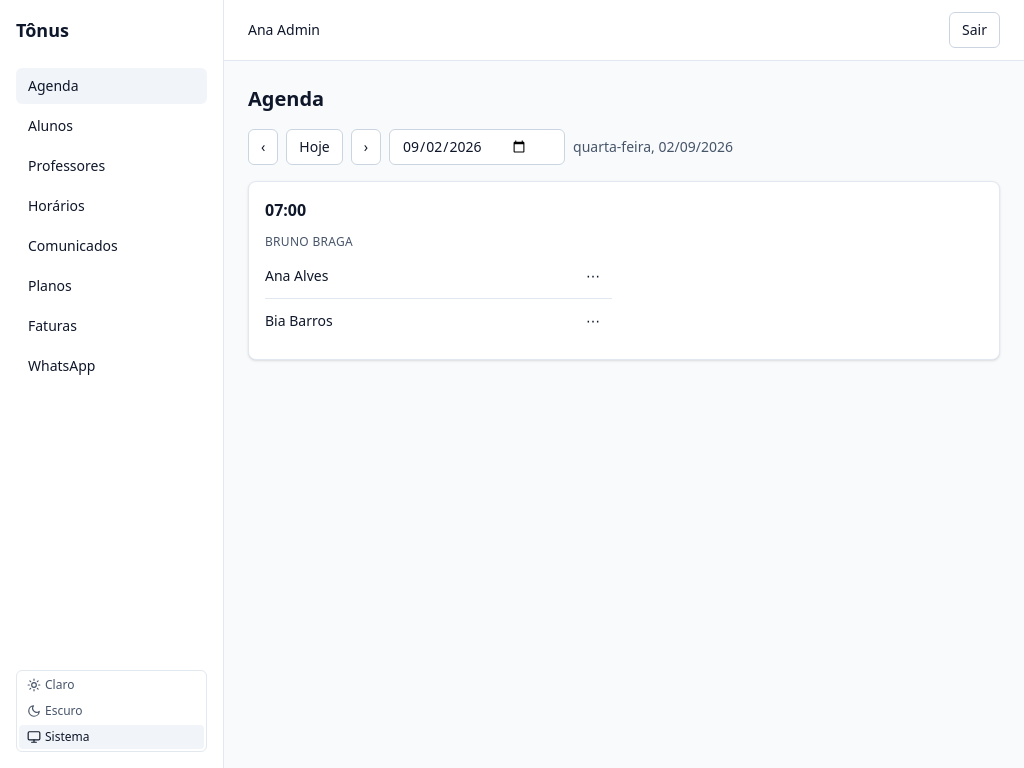
Test: cancelar aula › confirma avisando o efeito, envia a exceção e atualiza a lista
Click the button named "Ações de Ana Alves" at (593, 276), box x1=574 y1=258 x2=612 y2=294
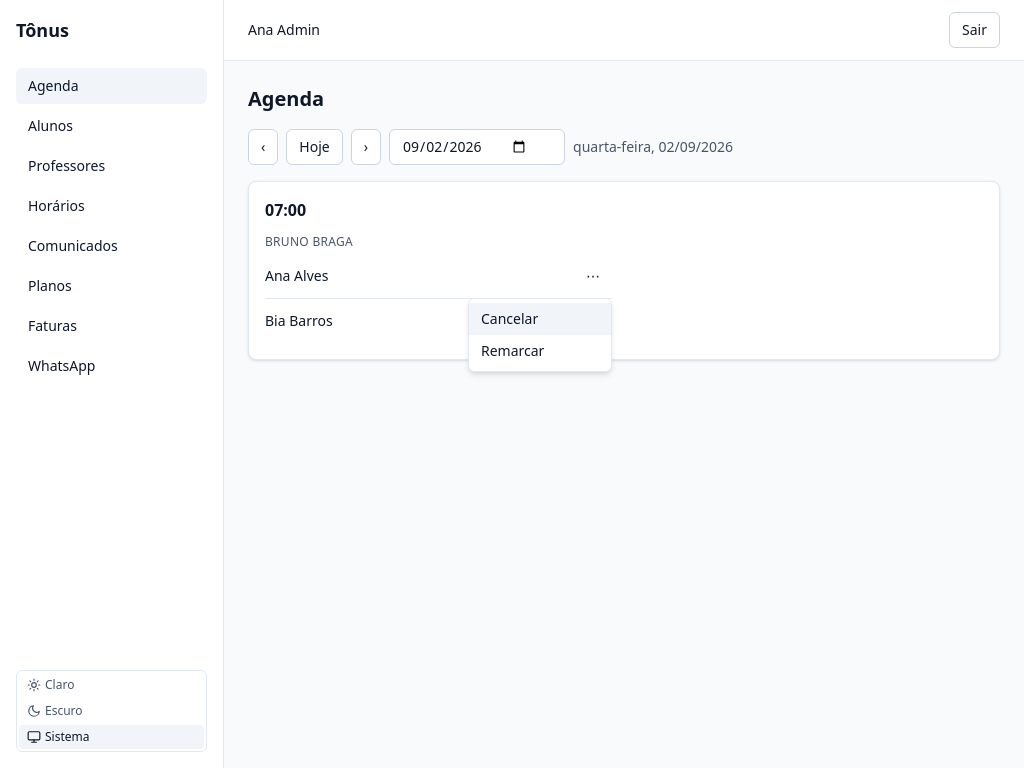
Click the menu item "Cancelar" at (540, 319), box x1=469 y1=303 x2=611 y2=335
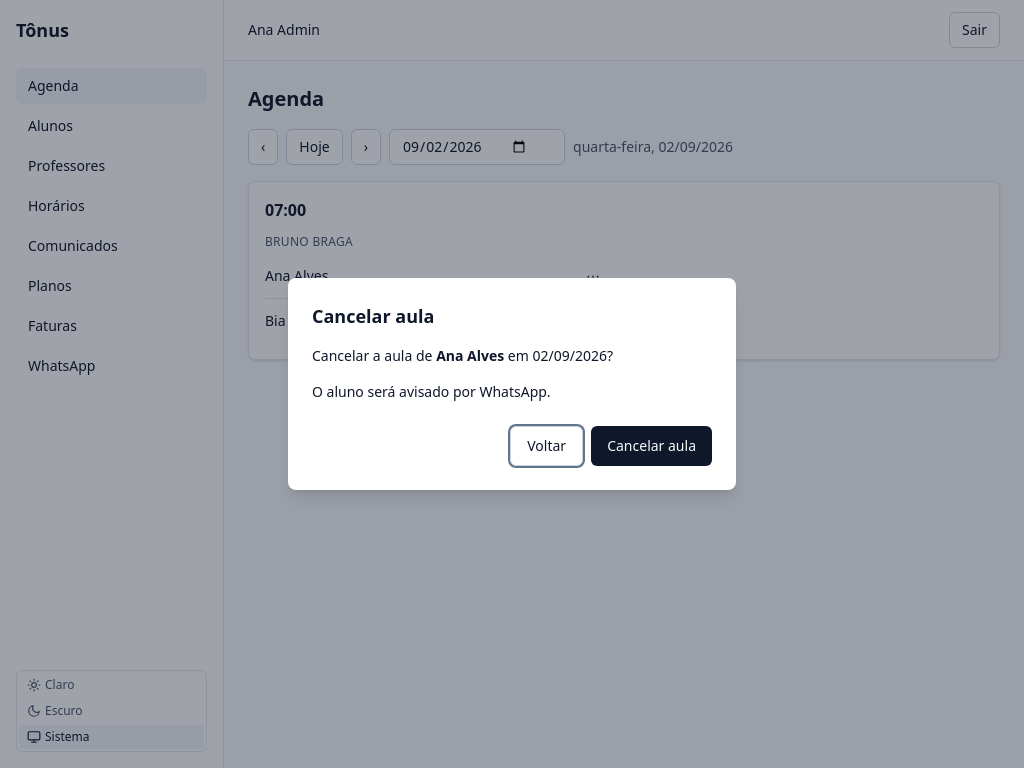
Check: the text "O aluno será avisado por WhatsApp." is shown, box x1=312 y1=382 x2=551 y2=401
Click the button "Cancelar aula" at (652, 446), box x1=591 y1=426 x2=712 y2=466
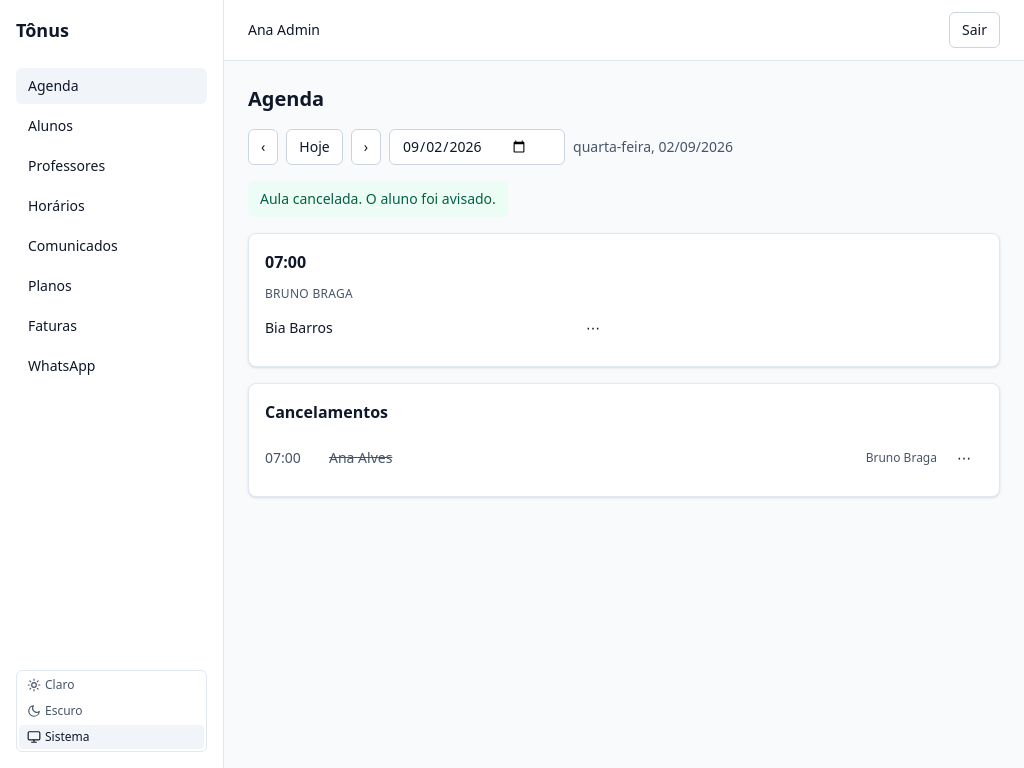
Check: the text "Ana Alves" is shown, box x1=329 y1=448 x2=392 y2=467
Check: the message shows "Aula cancelada", box x1=260 y1=189 x2=496 y2=208
